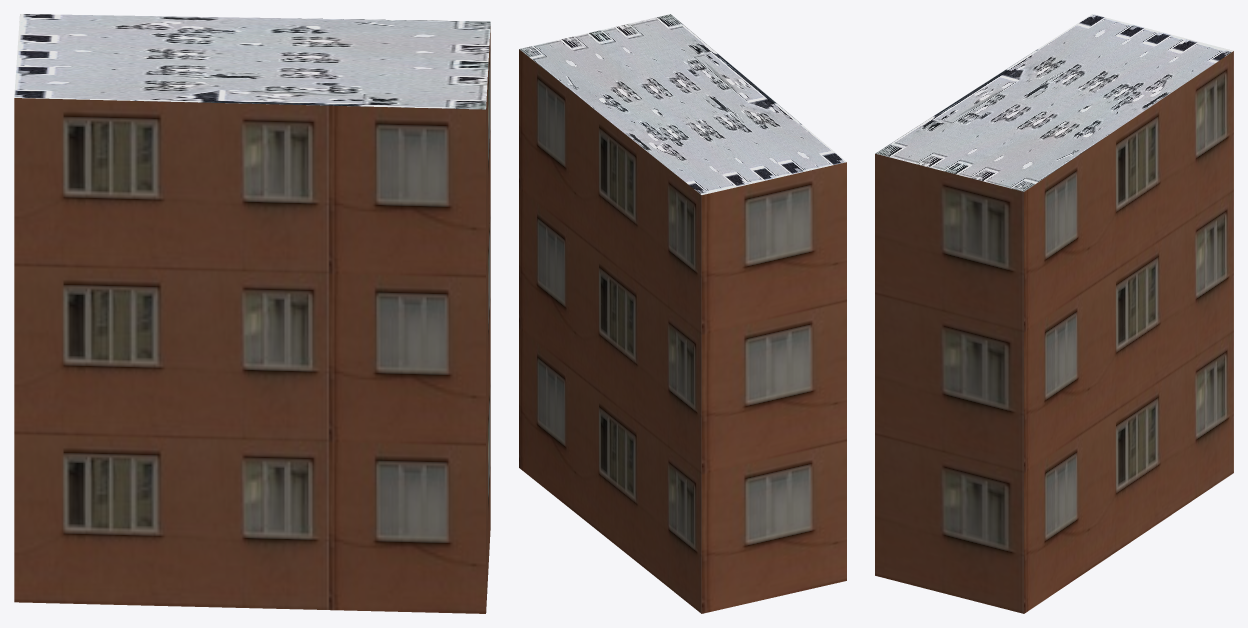
The model's file is ResTex__5217.fbx.
3 renders of one model, left to right at view 1: azimuth 30°, elevation 25°; view 2: azimuth 150°, elevation 25°; view 3: azimuth 270°, elevation 25°, orthographic. The views are drawn at different scales.
Visible parts, largest first — view 1: CityEngineMaterial_20_m, CityEngineMaterial_8_m; view 2: CityEngineMaterial_20_m, CityEngineMaterial_8_m; view 3: CityEngineMaterial_20_m, CityEngineMaterial_8_m.
Boxes of the visible parts, x1,y1,x2,y2 form: CityEngineMaterial_20_m: (14, 26, 490, 613); CityEngineMaterial_8_m: (14, 14, 490, 109); CityEngineMaterial_20_m: (519, 49, 846, 613); CityEngineMaterial_8_m: (519, 14, 846, 194); CityEngineMaterial_20_m: (875, 51, 1233, 613); CityEngineMaterial_8_m: (875, 14, 1233, 191).
Size of the model in its own units: 8.14 by 9 by 6.94.
2 materials, 2 textured.
